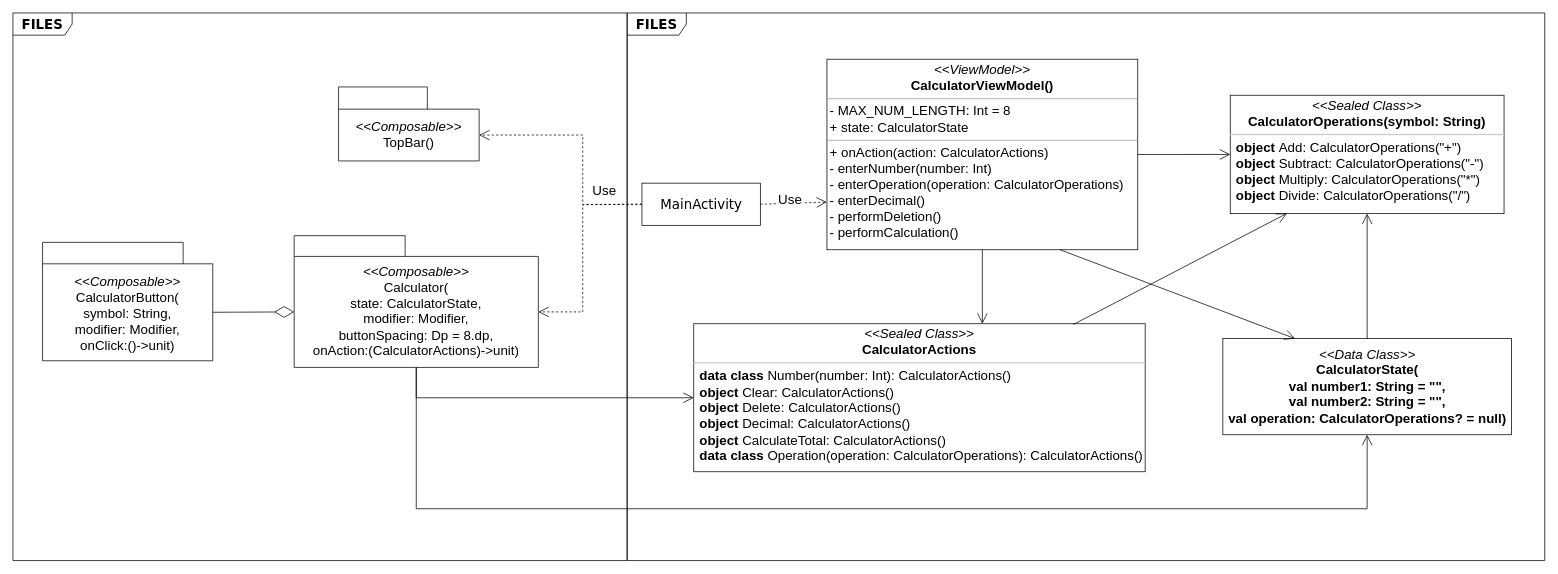
Image size: 1558x574. Some labels were removed from this diagram. The box of each missing label's shape, as (x1, y1, x2, y2) in pixels:
Calculator.kt: (293, 235, 538, 367)
CalculatorButton.kt: (42, 242, 213, 361)
TopBar.kt: (338, 86, 479, 161)
